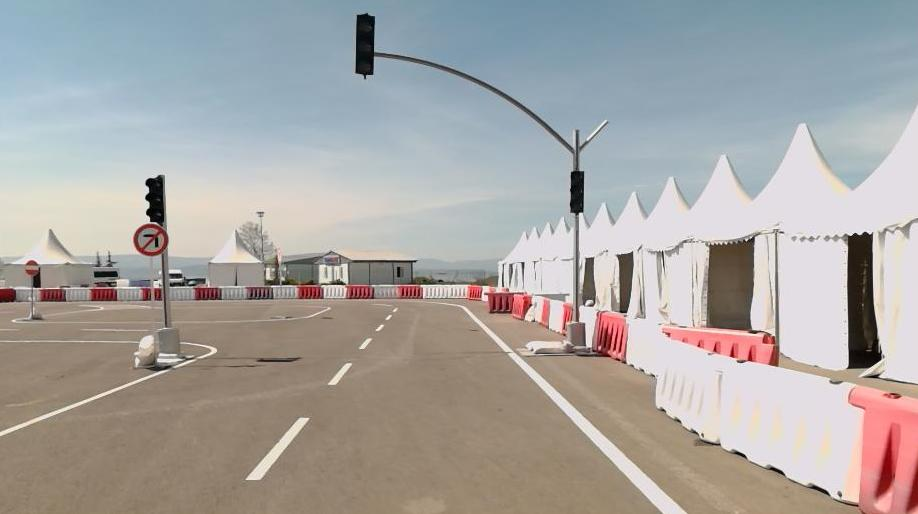nesne: (0, 296, 687, 512), (222, 297, 689, 512), (0, 299, 404, 512), (440, 299, 687, 512), (654, 339, 866, 504), (0, 338, 219, 439), (848, 388, 915, 512), (168, 283, 483, 301), (662, 326, 776, 367), (246, 412, 311, 481), (481, 292, 571, 338), (172, 304, 330, 324), (626, 318, 662, 372), (596, 307, 629, 362), (10, 312, 163, 323), (134, 222, 168, 256), (577, 301, 599, 349), (0, 337, 135, 344), (130, 332, 156, 366), (524, 337, 571, 353), (483, 292, 513, 313), (524, 294, 543, 325), (423, 285, 468, 298), (91, 265, 119, 285), (549, 299, 564, 336), (511, 293, 530, 321), (329, 360, 351, 384), (116, 287, 143, 302), (538, 297, 551, 328), (345, 285, 373, 299), (83, 327, 148, 333), (220, 286, 247, 300), (397, 284, 422, 299), (64, 287, 92, 300), (27, 294, 41, 320), (169, 286, 195, 300), (194, 287, 222, 300), (16, 286, 40, 301), (246, 285, 271, 299), (272, 285, 297, 299), (298, 284, 323, 298), (321, 284, 346, 298), (41, 288, 67, 301), (89, 288, 115, 301), (373, 285, 398, 298), (562, 304, 571, 339), (167, 268, 184, 285), (141, 287, 160, 300), (24, 261, 40, 276), (0, 287, 16, 301), (470, 284, 483, 299), (358, 336, 371, 349), (373, 323, 384, 331)
